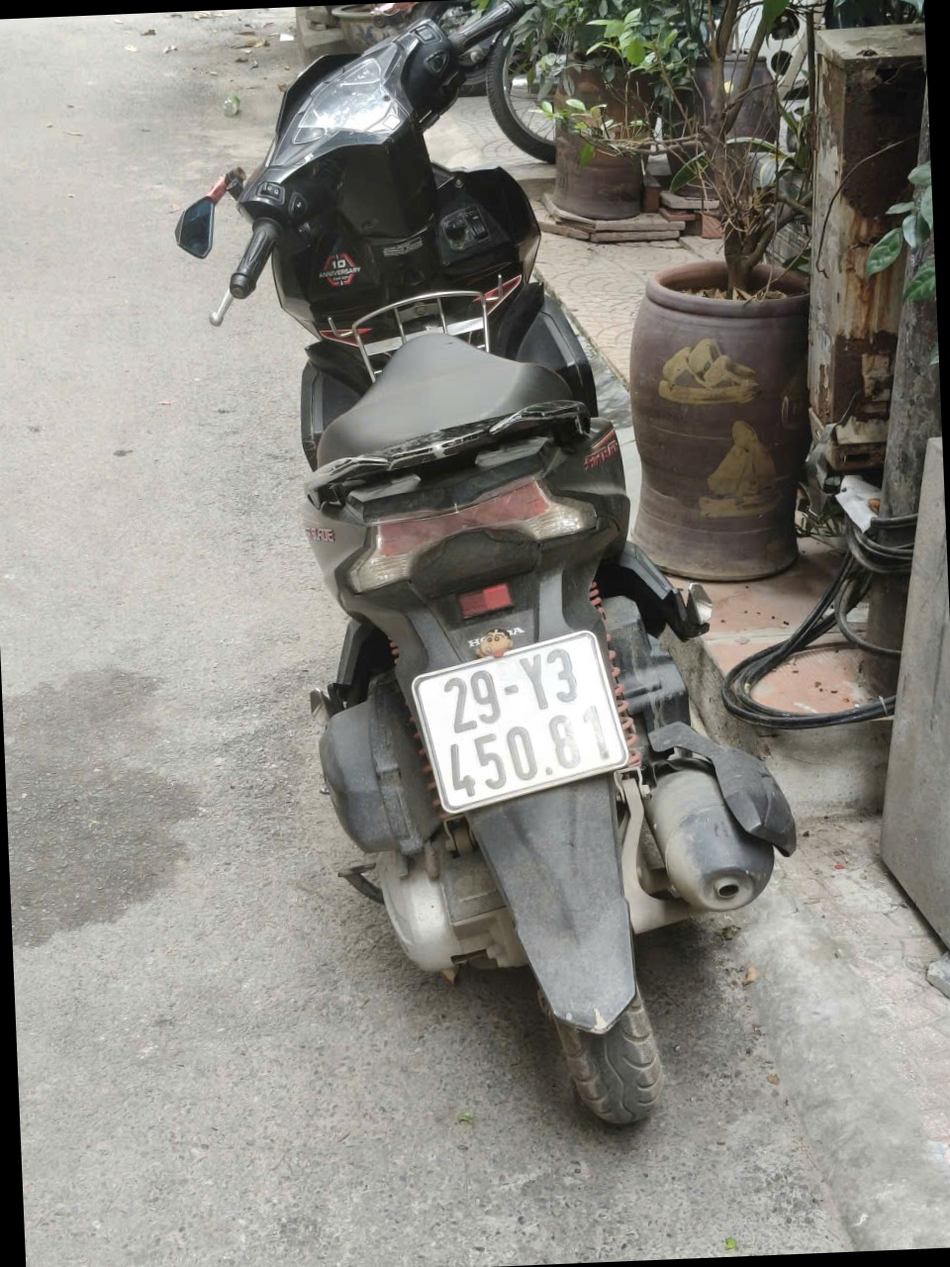plate: (300, 10, 420, 61)
